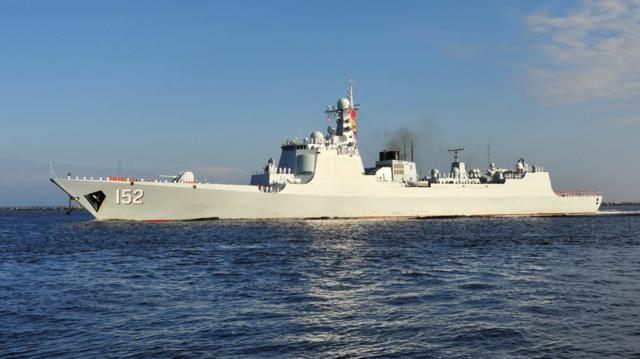warship: (46, 79, 626, 227)
